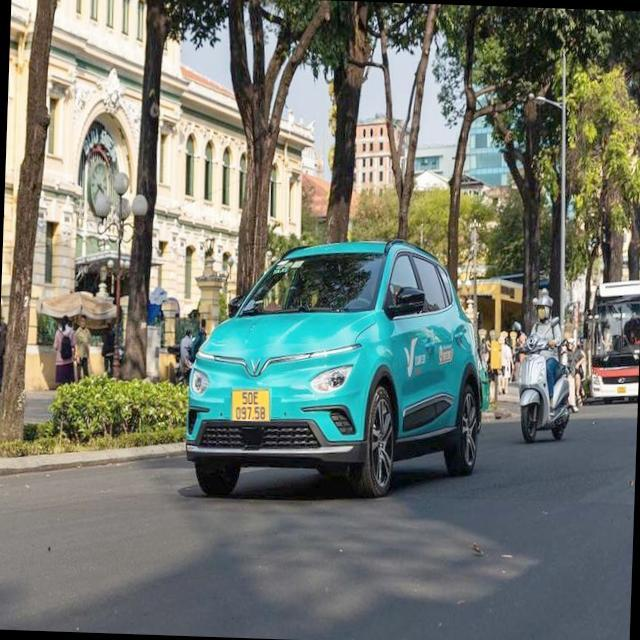car: (176, 238, 492, 503), (586, 267, 640, 421)
motorcycle: (511, 341, 572, 444)
plate: (227, 384, 274, 426), (613, 378, 636, 401)
